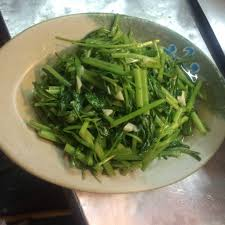kongxincai: (65, 44, 178, 153)
